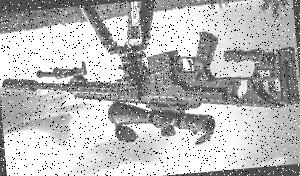sniper: (0, 0, 300, 148)
